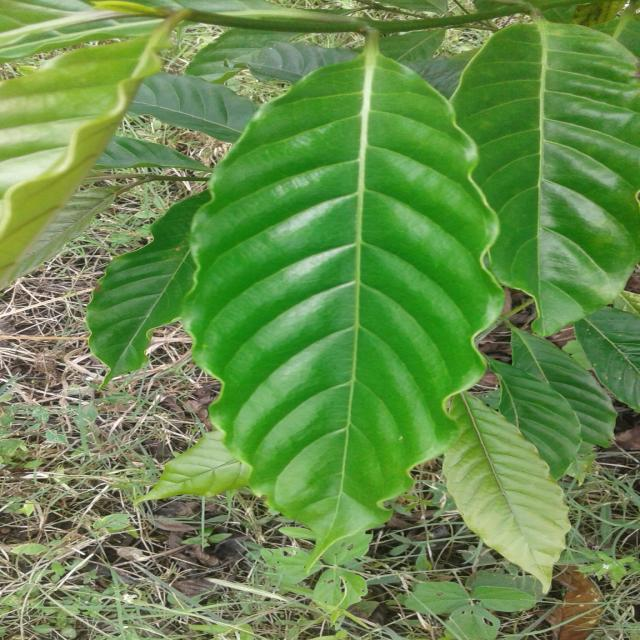Sanas: (184, 54, 537, 575)
